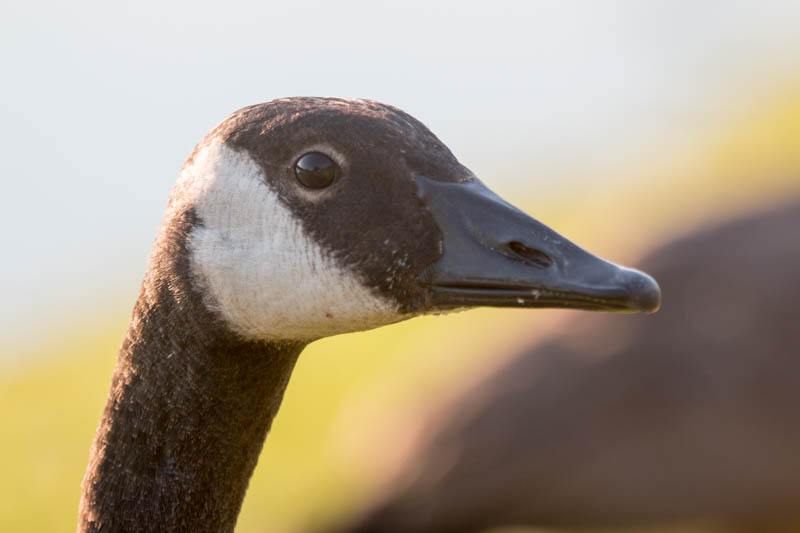goose-head: (148, 96, 662, 345)
